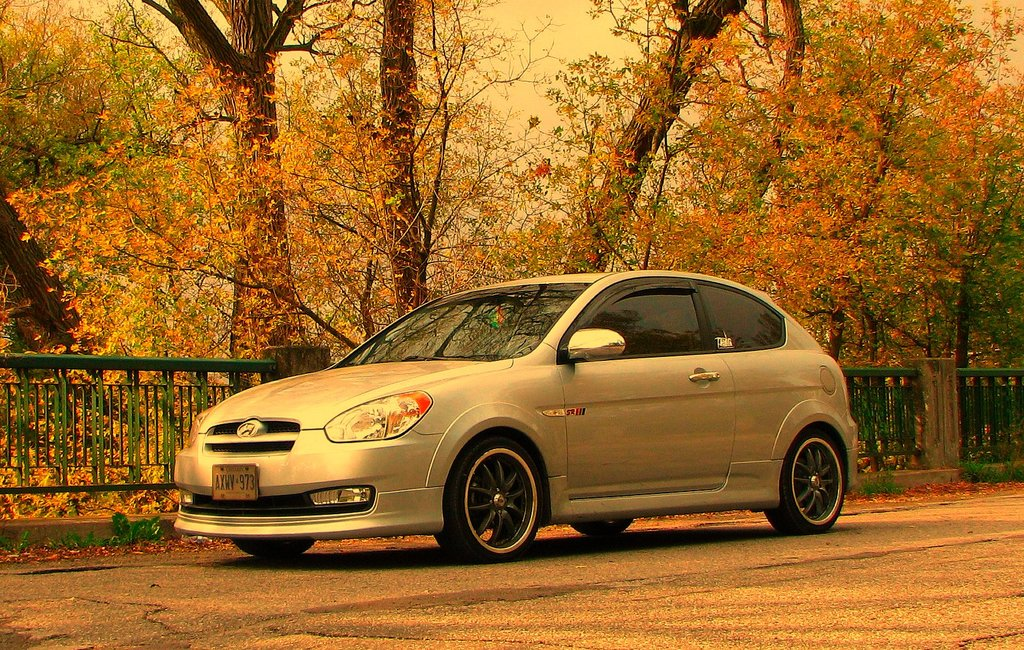Car: (163, 272, 870, 567)
